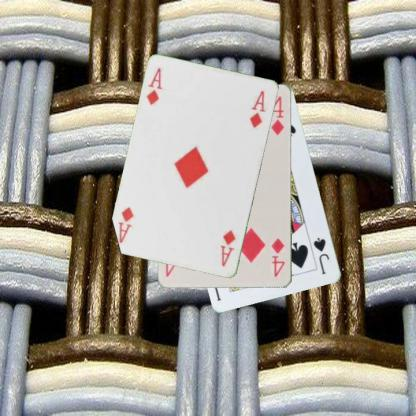4d: (268, 236, 286, 278)
Ad: (144, 65, 164, 107), (218, 228, 237, 268)
Js: (311, 235, 331, 276)
